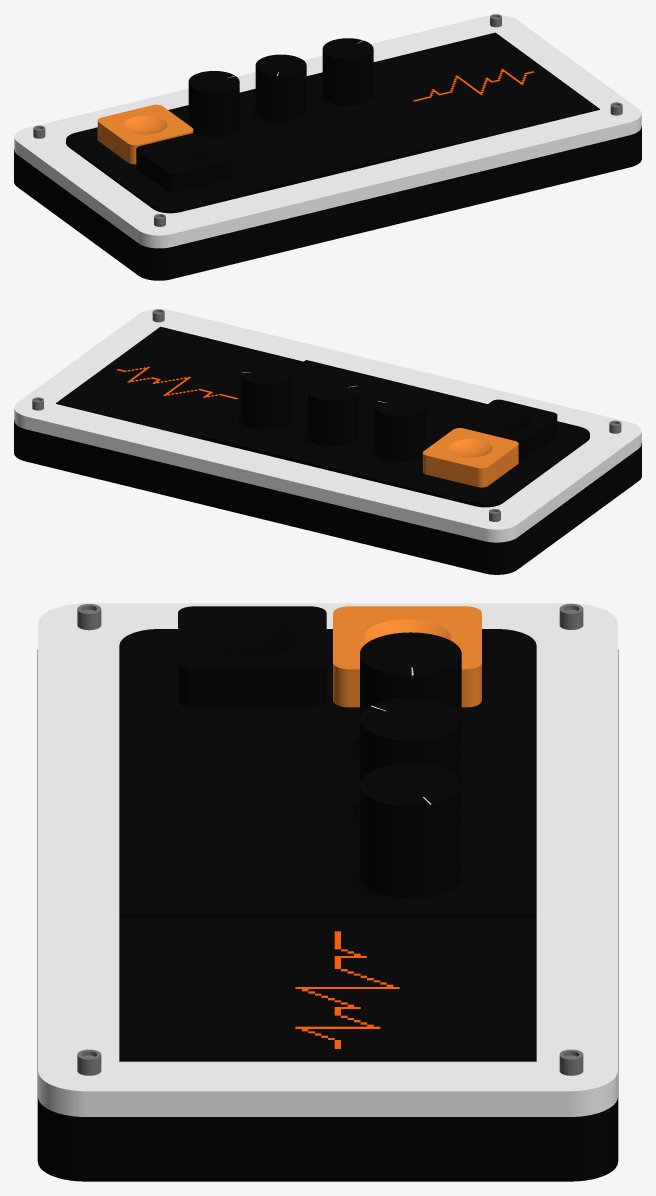
Rendered from keyboard.glb.
3 views of the same model, one above another, from view 1: azimuth 30°, elevation 25°; view 2: azimuth 150°, elevation 25°; view 3: azimuth 270°, elevation 25° (orthographic). The views are drawn at different scales.
Visible parts, largest first — view 1: Transparent_Pannel, Black_Pannel, KeyPannel, Screen, Keycap_B, Dial2, Dial3, Dial1, Keycap_O, Pin; view 2: Transparent_Pannel, Black_Pannel, KeyPannel, Screen, Keycap_O, Dial3, Dial2, Dial1, Keycap_B, Pin; view 3: Transparent_Pannel, KeyPannel, Screen, Black_Pannel, Keycap_B, Dial3, Keycap_O, Dial1, Dial2, Pin.
Part boxes in pixels (<box>): Transparent_Pannel: <box>14,15,641,248</box>; Black_Pannel: <box>14,126,641,280</box>; KeyPannel: <box>66,72,454,213</box>; Screen: <box>373,32,599,145</box>; Keycap_B: <box>136,133,231,192</box>; Dial2: <box>252,54,309,125</box>; Dial3: <box>319,38,376,109</box>; Dial1: <box>188,71,242,141</box>; Keycap_O: <box>97,104,193,164</box>; Pin: <box>33,14,622,226</box>; Transparent_Pannel: <box>14,309,641,542</box>; Black_Pannel: <box>14,420,641,574</box>; KeyPannel: <box>201,360,589,507</box>; Screen: <box>56,326,303,439</box>; Keycap_O: <box>423,428,518,487</box>; Dial3: <box>237,362,295,433</box>; Dial2: <box>304,379,362,449</box>; Dial1: <box>371,395,426,466</box>; Keycap_B: <box>461,399,557,458</box>; Pin: <box>32,309,621,521</box>; Transparent_Pannel: <box>38,603,617,1116</box>; KeyPannel: <box>119,629,536,918</box>; Screen: <box>119,918,536,1061</box>; Black_Pannel: <box>37,649,618,1181</box>; Keycap_B: <box>178,606,326,707</box>; Dial3: <box>352,763,468,904</box>; Keycap_O: <box>333,606,481,707</box>; Dial1: <box>352,632,468,761</box>; Dial2: <box>352,698,468,826</box>; Pin: <box>77,603,583,1075</box>.
Bounding box in the file's own units: 13.02 × 2.39 × 6.54.
